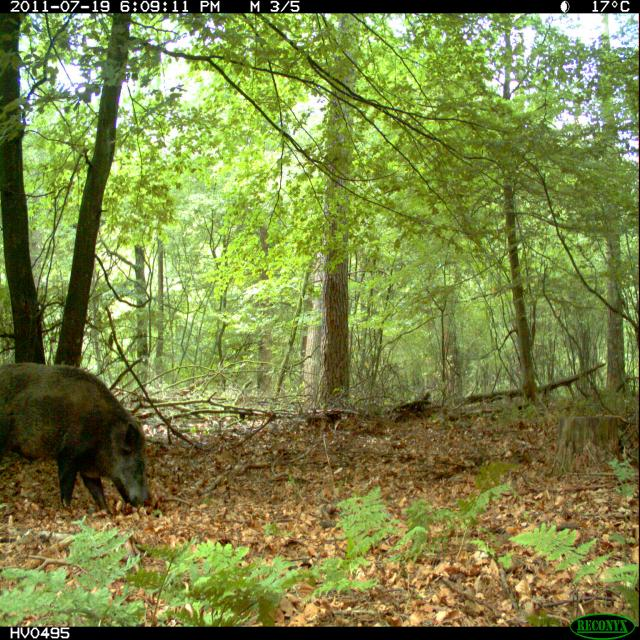boar: (0, 338, 180, 526)
